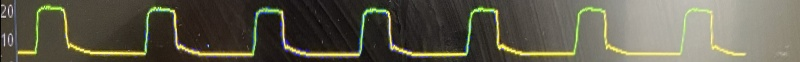normal_pressure: (13, 1, 755, 62)
